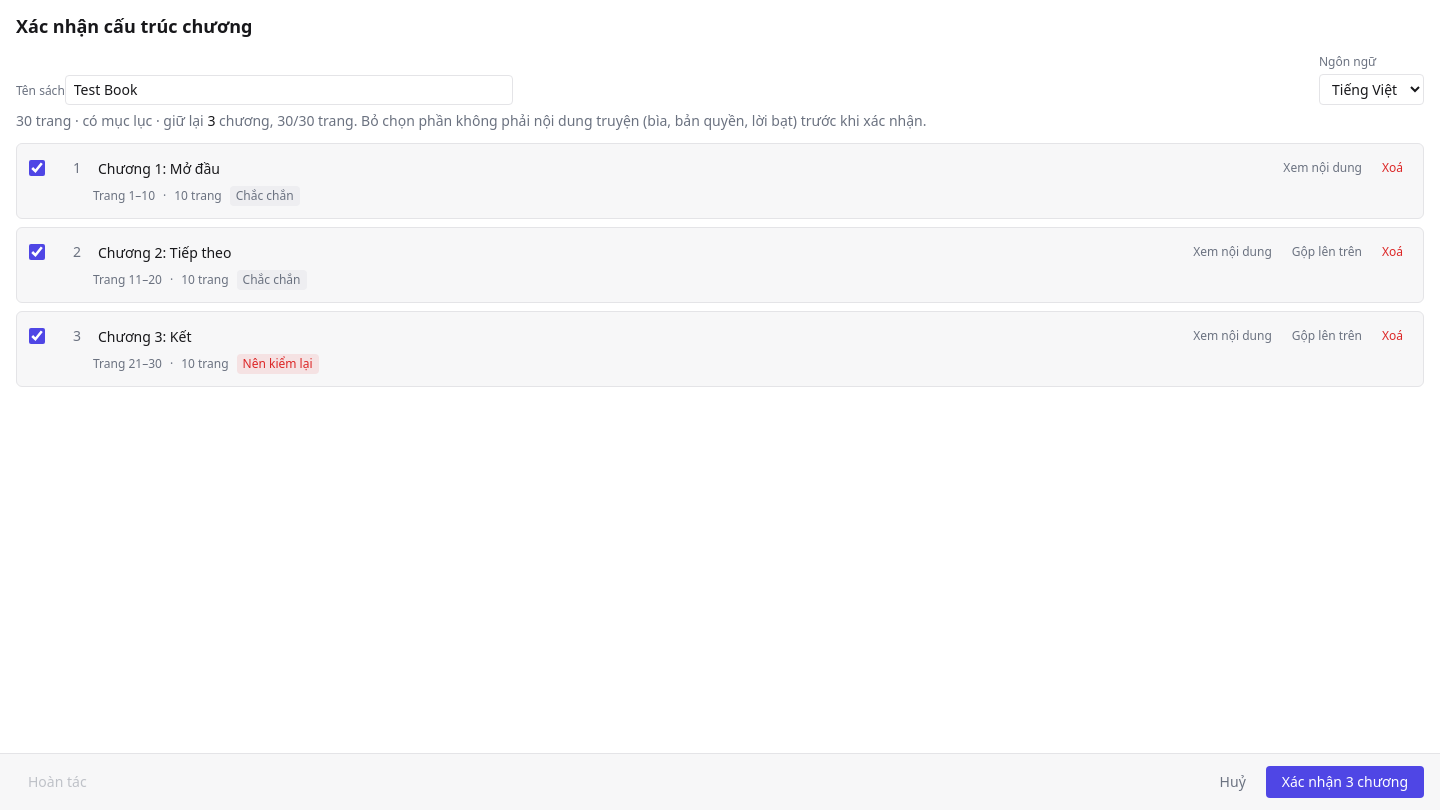
Test: đổi tên › xoá sạch tên thì chặn xác nhận
Clear the 1st field named "Tên chương" at (678, 169), box [93,156,1263,182]
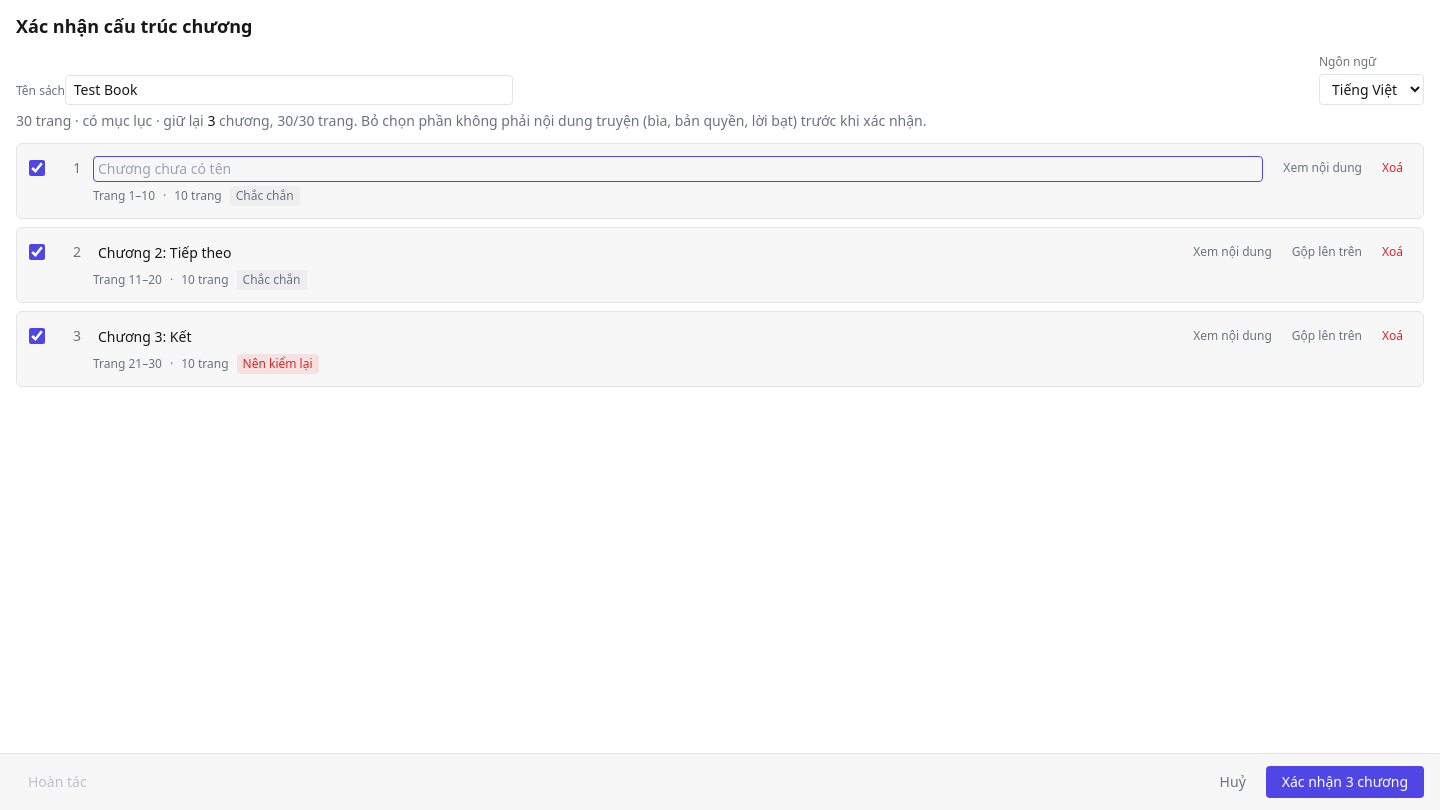
Press Tab
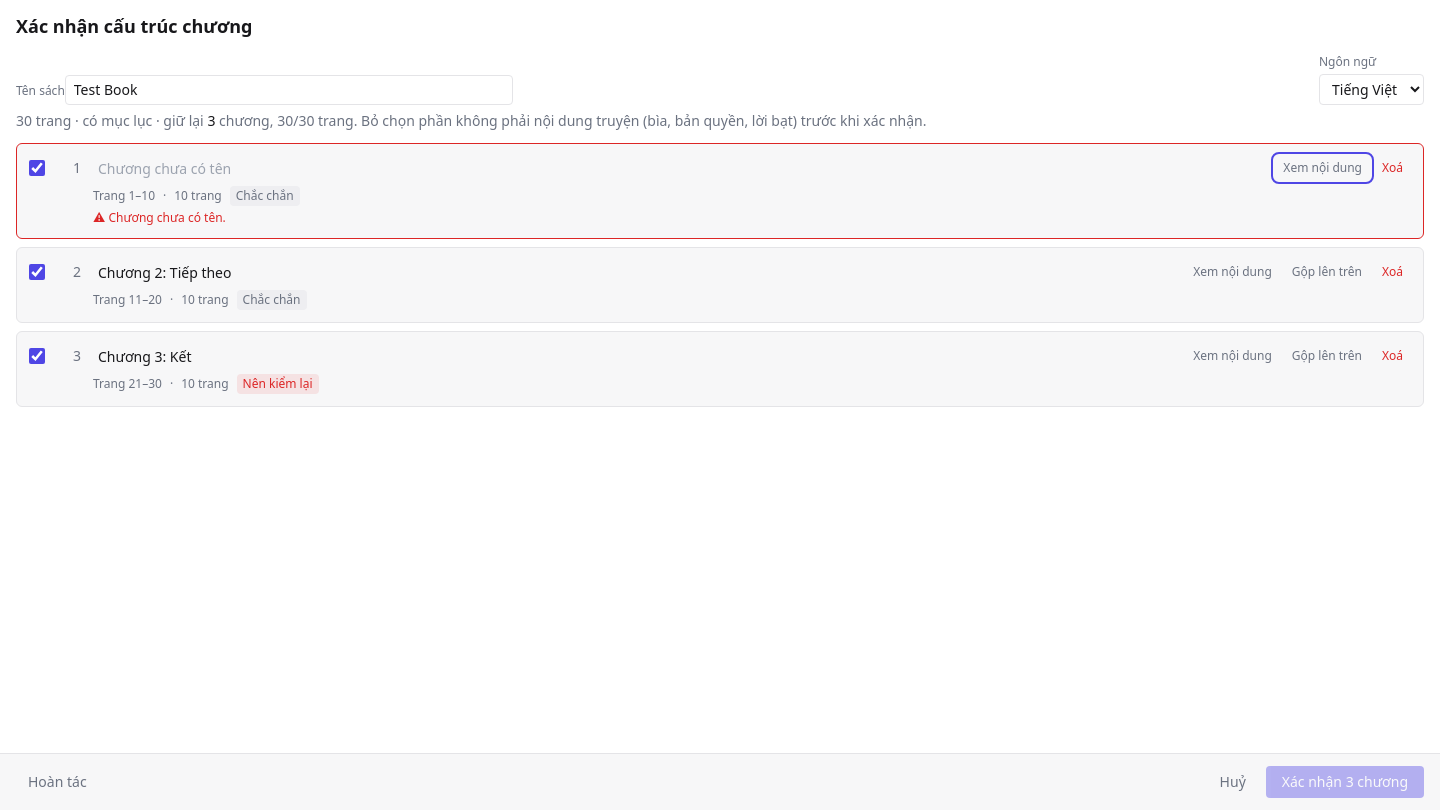
Check: the button "Xác nhận 3 chương" is disabled, box [1266,766,1424,798]
Check: the message shows "chưa có tên", box [108,209,226,226]
